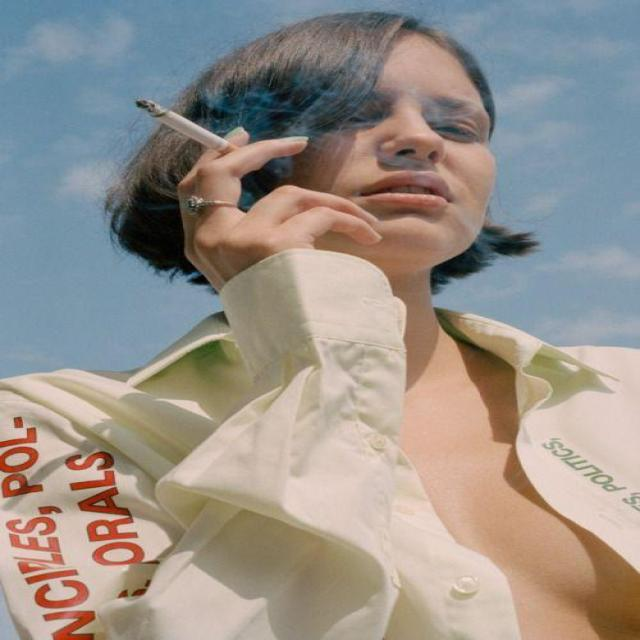cigarette: (89, 83, 268, 168)
